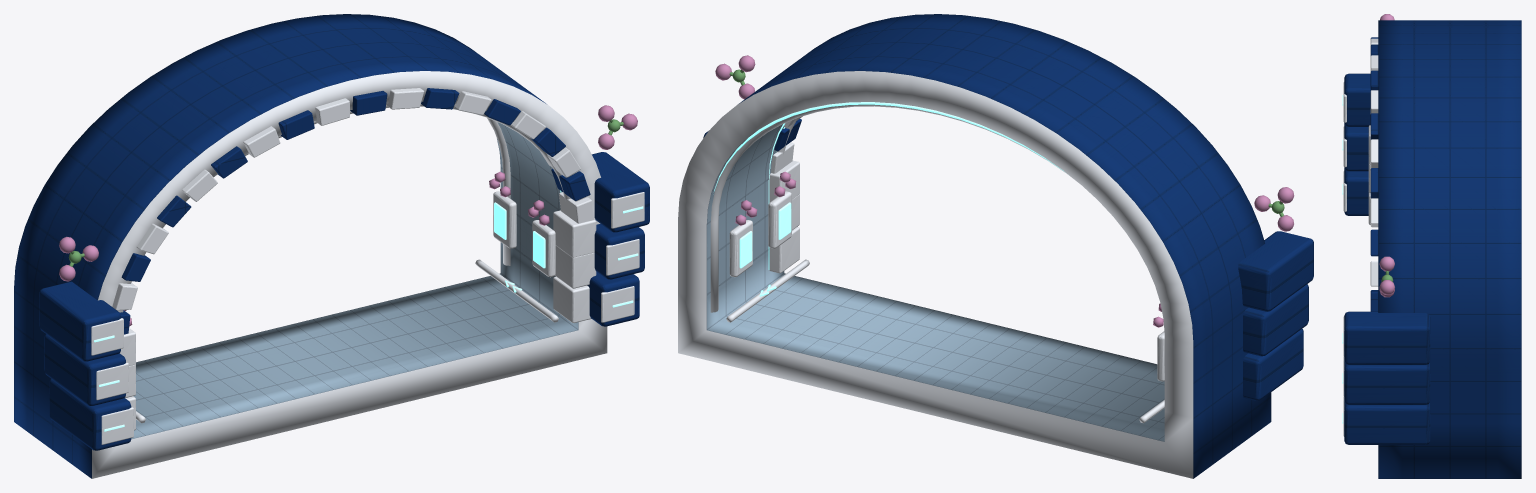
File: portal_entry.glb
3 views of the same model, side by side, from view 1: azimuth 30°, elevation 25°; view 2: azimuth 150°, elevation 25°; view 3: azimuth 270°, elevation 25° (orthographic). The views are drawn at different scales.
Parts seen in each view (by area): view 1: TunnelGeometry; view 2: TunnelGeometry; view 3: TunnelGeometry.
Part boxes in pixels (x1=…): TunnelGeometry: x1=14, y1=14, x2=649, y2=478; TunnelGeometry: x1=678, y1=14, x2=1313, y2=478; TunnelGeometry: x1=1342, y1=14, x2=1521, y2=478.
Size of the model in its own units: 17.11 by 9.52 by 5.01.
Materials: 6 (2 with a texture image).
